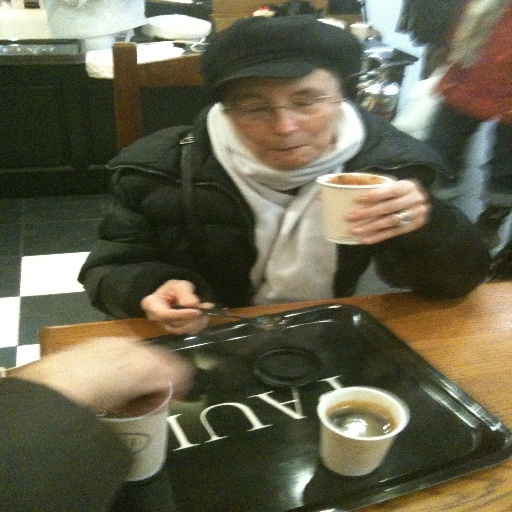hand: (7, 335, 180, 415), (315, 179, 427, 244), (130, 278, 215, 341)
